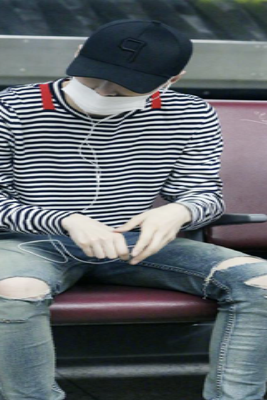mask_weared_incorrect: (57, 77, 160, 117)
